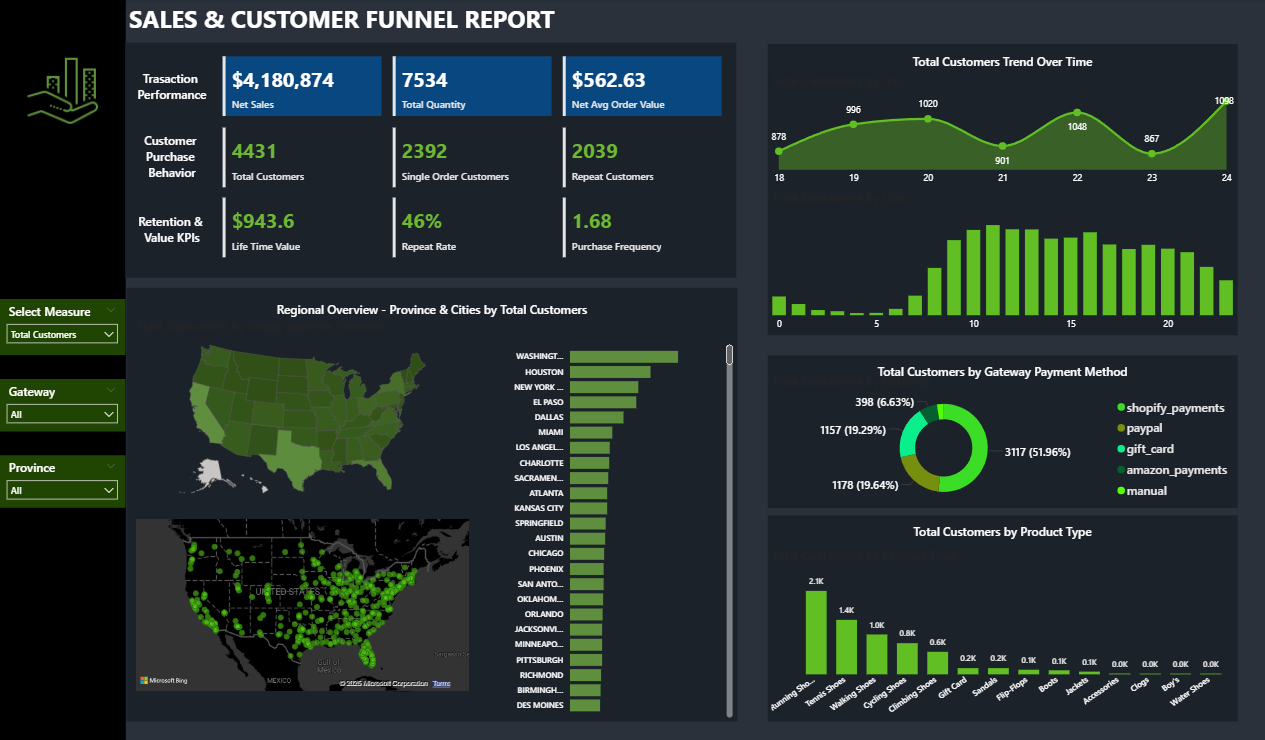

The page's visual inventory and layout, read from the dashboard file:
{"tool":"powerbi","page":{"name":"Shopify Analysis","canvas":[1700,1000],"ordinal":0},"visuals":[{"type":"shape","box":[0,0,170,999],"z":0},{"type":"textbox","box":[169.2,0,754,58.6],"z":1000},{"type":"shape","box":[169.2,58.6,819.4,315],"z":2000},{"type":"cardVisual","fields":{"Data":["shopify_sales.Net Sales","shopify_sales.Total Quantity","shopify_sales.Net Avg Order Value"]},"box":[294.9,72.1,680.3,90.5],"z":3000},{"type":"card","fields":{"Values":["shopify_sales.Transaction Perf"]},"box":[169.2,82.1,125.7,70.4],"z":4000},{"type":"cardVisual","fields":{"Data":["shopify_sales.Total Customers","shopify_sales.Single Order Customers","shopify_sales.Repeat Customers"]},"box":[294.9,166.7,680.3,90.5],"z":5000},{"type":"card","fields":{"Values":["shopify_sales.Customer Purchase Behavior"]},"box":[169.2,160,125.7,93.8],"z":6000},{"type":"cardVisual","fields":{"Data":["shopify_sales.Life Time Value","shopify_sales.Repeat Rate","shopify_sales.Purchase Frequency"]},"box":[294.9,261.4,680.3,90.5],"z":7000},{"type":"card","fields":{"Values":["shopify_sales.Retention & Value KPIs"]},"box":[169.2,261.4,125.7,93.8],"z":8000},{"type":"shape","box":[170.9,387.1,819.4,581.4],"z":9000},{"type":"shapeMap","fields":{"Value":["shopify_sales.Total Customers"],"Category":["shopify_sales.Billing Address Province"]},"box":[179.3,429,455.8,249.7],"z":10000},{"type":"slicer","fields":{"Values":["Select Measure.Select Measure"]},"box":[0,402.1,169.2,75.4],"z":11000},{"type":"map","fields":{"Category":["shopify_sales.Location"]},"box":[179.3,692,455.8,241.3],"z":12000},{"type":"clusteredBarChart","fields":{"Y":["shopify_sales.Total Customers"],"Category":["shopify_sales.CITY"]},"box":[673.6,450.7,315,517.8],"z":13000},{"type":"card","fields":{"Values":["shopify_sales.Map Title"]},"box":[316.7,402.1,527.8,33.5],"z":14000},{"type":"shape","box":[1030.5,60.3,630,390.4],"z":15000},{"type":"areaChart","fields":{"Y":["shopify_sales.Total Customers"],"Category":["shopify_sales.Invoice Date.Variation.Date Hierarchy.Day"]},"box":[1030.5,98.9,630,159.2],"z":16000},{"type":"clusteredColumnChart","fields":{"Y":["shopify_sales.Total Customers"],"Category":["shopify_sales.Hour"]},"box":[1030.5,256.4,630,197.7],"z":17000},{"type":"card","fields":{"Values":["shopify_sales.Trend Title"]},"box":[1204.8,72.1,281.5,26.8],"z":18000},{"type":"shape","box":[1030.5,477.5,630,205],"z":19000},{"type":"donutChart","fields":{"Y":["shopify_sales.Total Customers"],"Category":["shopify_sales.Gateway"]},"box":[1030.5,502.7,630,179.3],"z":20000},{"type":"card","fields":{"Values":["shopify_sales.Gateway Title"]},"box":[1151.1,487.6,388.7,28.5],"z":21000},{"type":"shape","box":[1030.5,692,630,276.5],"z":22000},{"type":"columnChart","fields":{"Y":["shopify_sales.Total Customers"],"Category":["shopify_sales.Product Type"]},"box":[1030.5,735.6,630,232.9],"z":23000},{"type":"card","fields":{"Values":["shopify_sales.Product Title"]},"box":[1142.8,697.1,405.5,38.5],"z":24000},{"type":"slicer","fields":{"Values":["shopify_sales.Gateway"]},"box":[0,509.4,169.2,70.4],"z":26000},{"type":"slicer","fields":{"Values":["shopify_sales.Billing Address Province"]},"box":[0,611.6,169.2,70.4],"z":27000},{"type":"image","box":[23.5,60.3,124,125.7],"z":27001}]}

Visuals, with their boxes in screenshot pixels (x1, y1, x2, y2), scaled from the page's 1700x1000 canvas onto the 1265x740 screenshot:
shape: bbox(0, 0, 126, 739)
textbox: bbox(126, 0, 687, 43)
shape: bbox(126, 43, 736, 276)
cardVisual - shopify_sales.Net Sales x shopify_sales.Total Quantity: bbox(219, 53, 726, 120)
card - shopify_sales.Transaction Perf: bbox(126, 61, 219, 113)
cardVisual - shopify_sales.Total Customers x shopify_sales.Single Order Customers: bbox(219, 123, 726, 190)
card - shopify_sales.Customer Purchase Behavior: bbox(126, 118, 219, 188)
cardVisual - shopify_sales.Life Time Value x shopify_sales.Repeat Rate: bbox(219, 193, 726, 260)
card - shopify_sales.Retention & Value KPIs: bbox(126, 193, 219, 263)
shape: bbox(127, 286, 737, 717)
shapeMap - shopify_sales.Total Customers x shopify_sales.Billing Address Province: bbox(133, 317, 473, 502)
slicer - Select Measure.Select Measure: bbox(0, 298, 126, 353)
map - shopify_sales.Location: bbox(133, 512, 473, 691)
clusteredBarChart - shopify_sales.Total Customers x shopify_sales.CITY: bbox(501, 334, 736, 717)
card - shopify_sales.Map Title: bbox(236, 298, 628, 322)
shape: bbox(767, 45, 1236, 334)
areaChart - shopify_sales.Total Customers x shopify_sales.Invoice Date.Variation.Date Hierarchy.Day: bbox(767, 73, 1236, 191)
clusteredColumnChart - shopify_sales.Total Customers x shopify_sales.Hour: bbox(767, 190, 1236, 336)
card - shopify_sales.Trend Title: bbox(897, 53, 1106, 73)
shape: bbox(767, 353, 1236, 505)
donutChart - shopify_sales.Total Customers x shopify_sales.Gateway: bbox(767, 372, 1236, 505)
card - shopify_sales.Gateway Title: bbox(857, 361, 1146, 382)
shape: bbox(767, 512, 1236, 717)
columnChart - shopify_sales.Total Customers x shopify_sales.Product Type: bbox(767, 544, 1236, 717)
card - shopify_sales.Product Title: bbox(850, 516, 1152, 544)
slicer - shopify_sales.Gateway: bbox(0, 377, 126, 429)
slicer - shopify_sales.Billing Address Province: bbox(0, 453, 126, 505)
image: bbox(17, 45, 110, 138)
